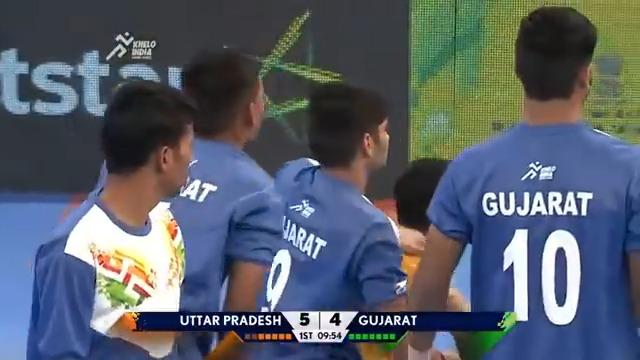Player: (403, 4, 639, 358), (211, 82, 411, 358), (25, 78, 200, 358), (160, 48, 276, 358)
